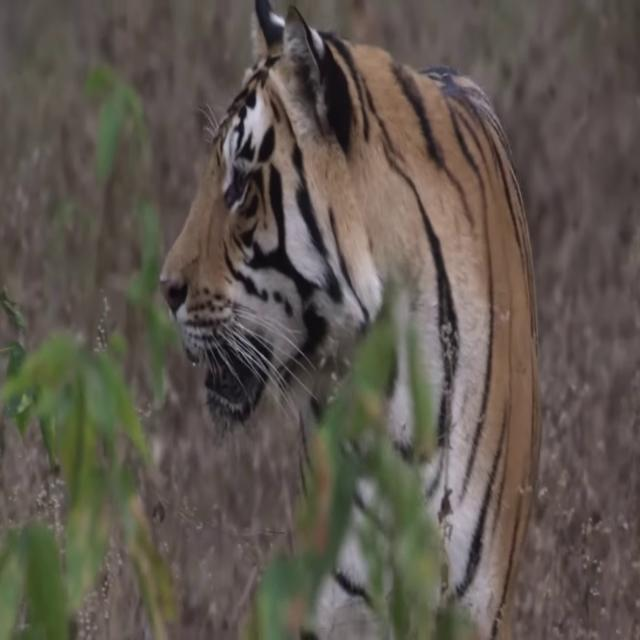tiger: (159, 0, 545, 640)
